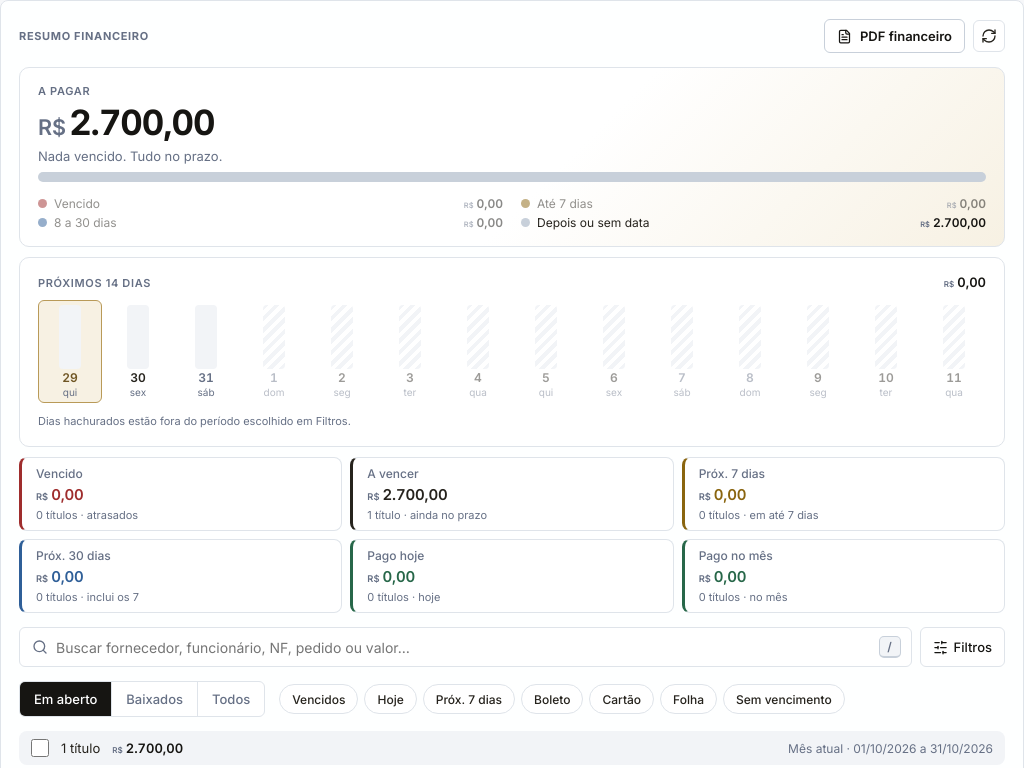
Test: atalho Folha › vindo de Boleto: limpa a forma de pagamento e recarrega
Click the button "Boleto" at (552, 699), box top-left (521, 684), bottom-right (583, 714)
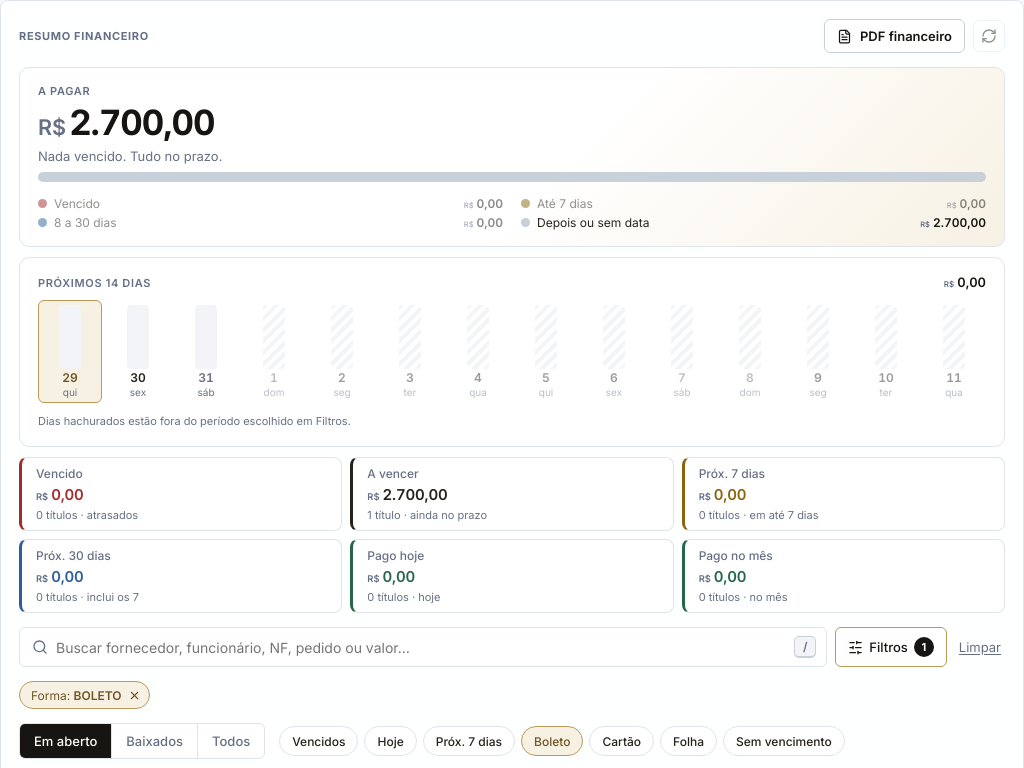
Click the button "Folha" at (689, 741), box top-left (660, 726), bottom-right (717, 756)
(page scrolled)
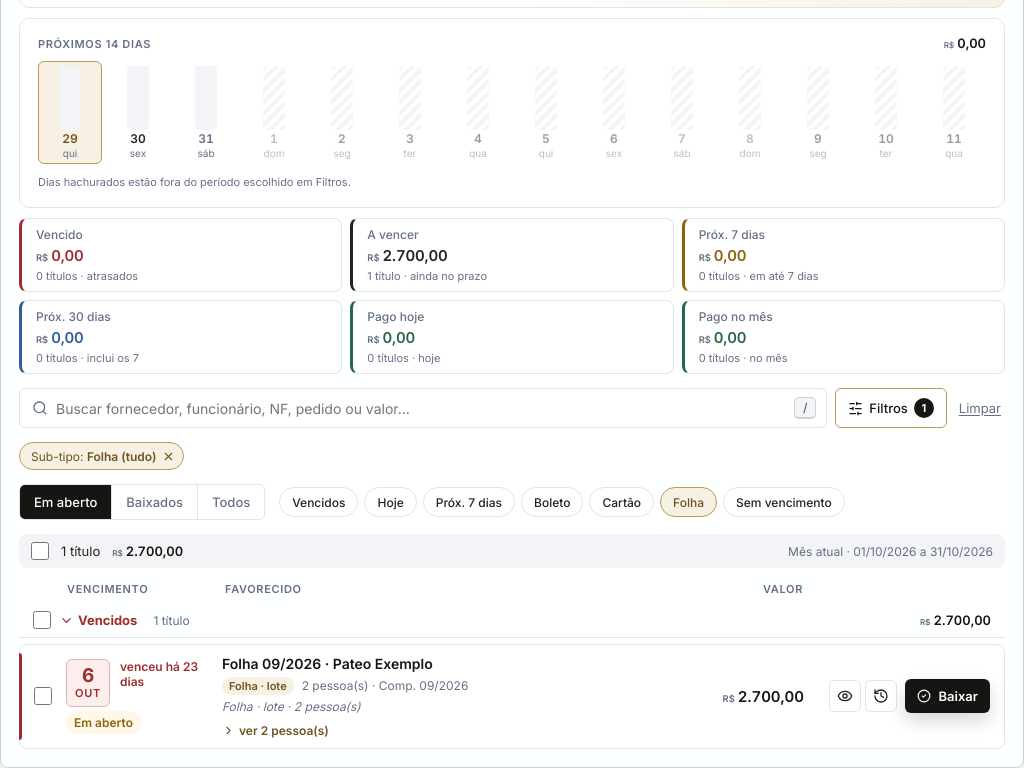
Expected: the text "Folha 09/2026 · Pateo Exemplo" is shown, top-left (222, 655), bottom-right (433, 672)
